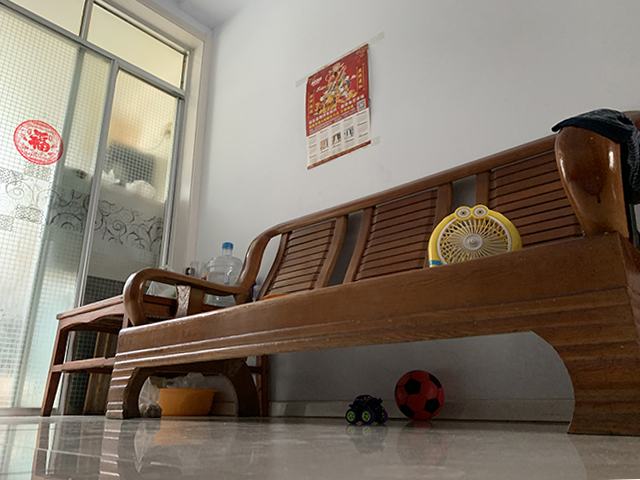sofa: (104, 106, 640, 437)
table: (38, 293, 178, 420)
